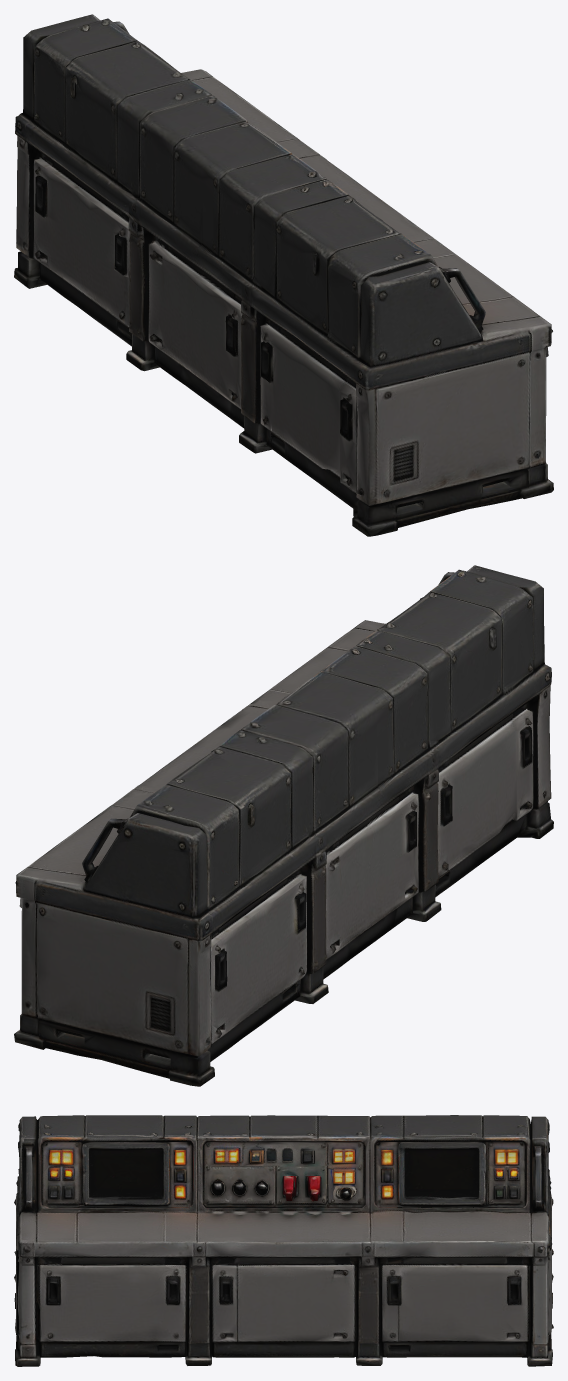
File: PROP-TERMINAL-CONSOLE.glb
3 views of the same model, one above another, from view 1: azimuth 30°, elevation 25°; view 2: azimuth 150°, elevation 25°; view 3: azimuth 270°, elevation 25° (orthographic). The views are drawn at different scales.
Visible parts, largest first — view 1: tripo_node_914701ef-9b63-4d3e-9064-b1cf113aa4fe; view 2: tripo_node_914701ef-9b63-4d3e-9064-b1cf113aa4fe; view 3: tripo_node_914701ef-9b63-4d3e-9064-b1cf113aa4fe.
Boxes of the visible parts, left/top/right/bottom form: tripo_node_914701ef-9b63-4d3e-9064-b1cf113aa4fe: left=14, top=14, right=553, bottom=536; tripo_node_914701ef-9b63-4d3e-9064-b1cf113aa4fe: left=14, top=565, right=553, bottom=1086; tripo_node_914701ef-9b63-4d3e-9064-b1cf113aa4fe: left=14, top=1115, right=553, bottom=1366.
Size of the model in its own units: 0.3145 by 0.3933 by 1.
Materials: 1 (1 with a texture image).
